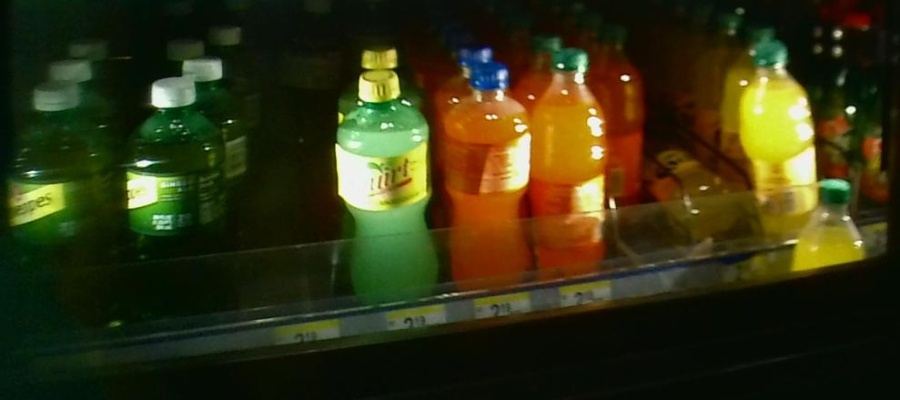bottle: (119, 65, 232, 342), (12, 77, 115, 342), (333, 64, 437, 309), (440, 58, 531, 305), (536, 48, 606, 299), (748, 40, 818, 250), (604, 29, 647, 224), (682, 151, 737, 251)
